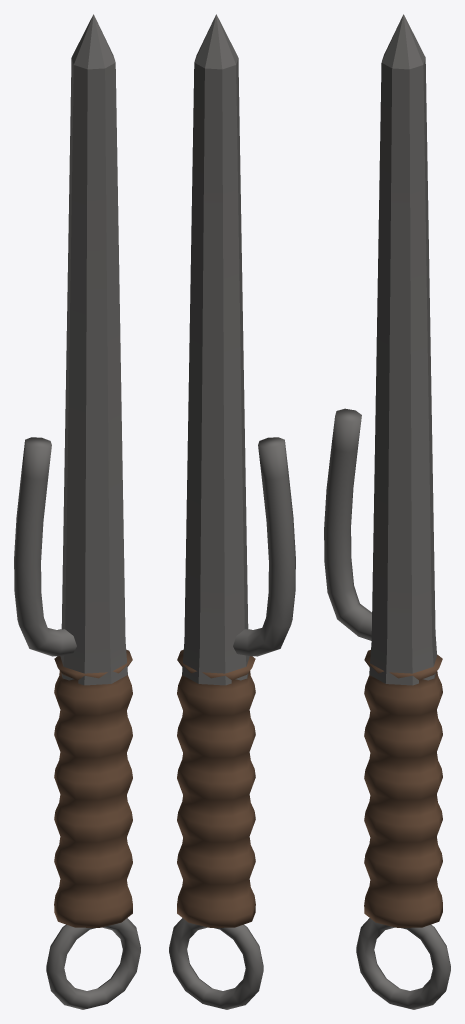
File: jutte.glb
The picture shows the model from 3 angles, left to right: view 1: azimuth 30°, elevation 25°; view 2: azimuth 150°, elevation 25°; view 3: azimuth 330°, elevation 25°; orthographic projection.
Parts seen in each view (by area): view 1: jutte; view 2: jutte; view 3: jutte.
Part boxes in pixels (x1=…): jutte: x1=14, y1=14, x2=140, y2=1009; jutte: x1=169, y1=14, x2=295, y2=1009; jutte: x1=324, y1=14, x2=450, y2=1009.
Size of the model in its own units: 0.114 by 0.8619 by 0.056.
